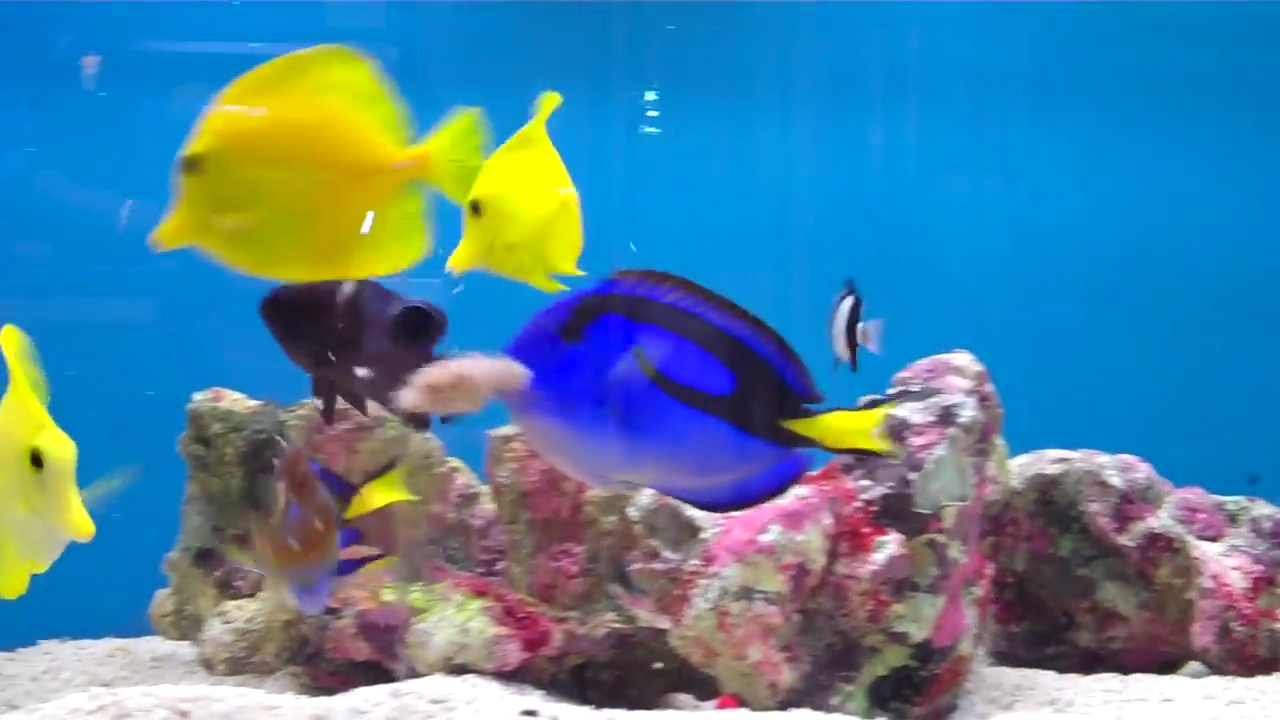blue tang surgeonfish: (501, 260, 916, 524)
saddle butterfly fish: (151, 52, 449, 290), (449, 94, 583, 302)
